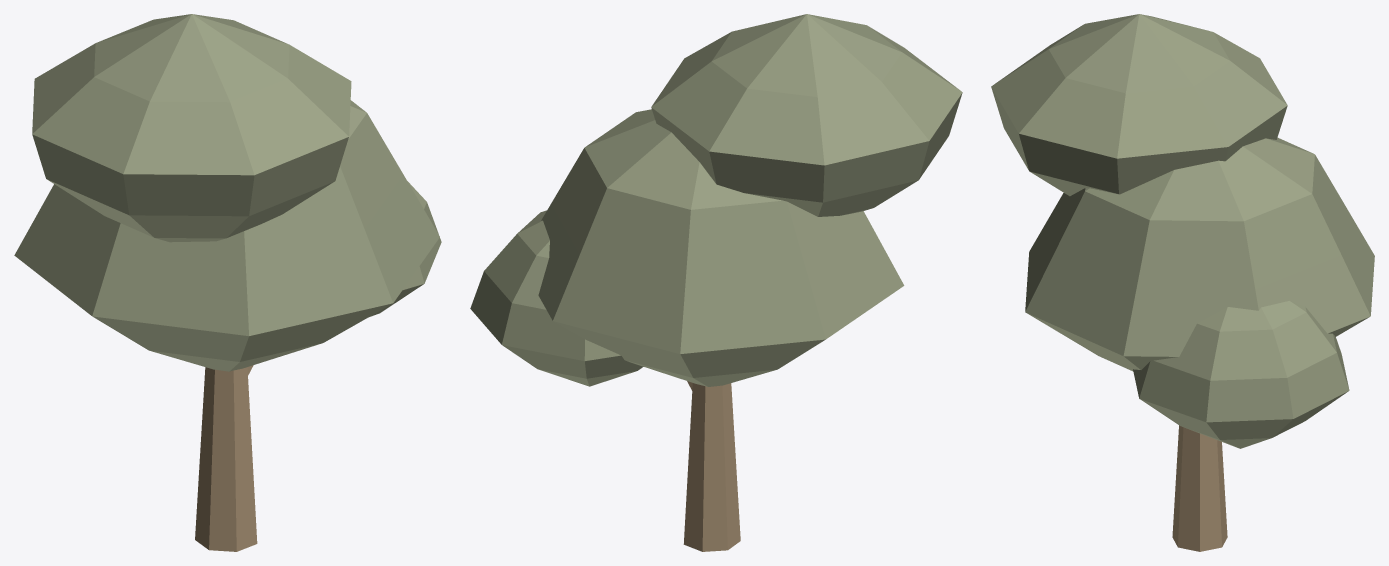
File: juniper.glb
3 renders of one model, left to right at view 1: azimuth 30°, elevation 25°; view 2: azimuth 150°, elevation 25°; view 3: azimuth 270°, elevation 25°, orthographic. The views are drawn at different scales.
Visible parts, largest first — view 1: NC_juniper; view 2: NC_juniper; view 3: NC_juniper.
Part boxes in pixels (x1=…): NC_juniper: x1=14, y1=14, x2=441, y2=551; NC_juniper: x1=470, y1=14, x2=962, y2=551; NC_juniper: x1=991, y1=14, x2=1374, y2=551.
Bounding box in the file's own units: 2.17 × 2.71 × 1.9.
